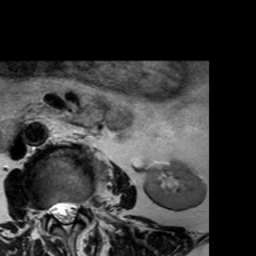CCS_normal: (60, 192, 70, 241)
LFS_stenosis: (79, 187, 89, 219)
LLS_normal: (70, 190, 79, 225)
RFS_stenosis: (40, 195, 50, 225)
RLS_normal: (50, 193, 61, 227)
